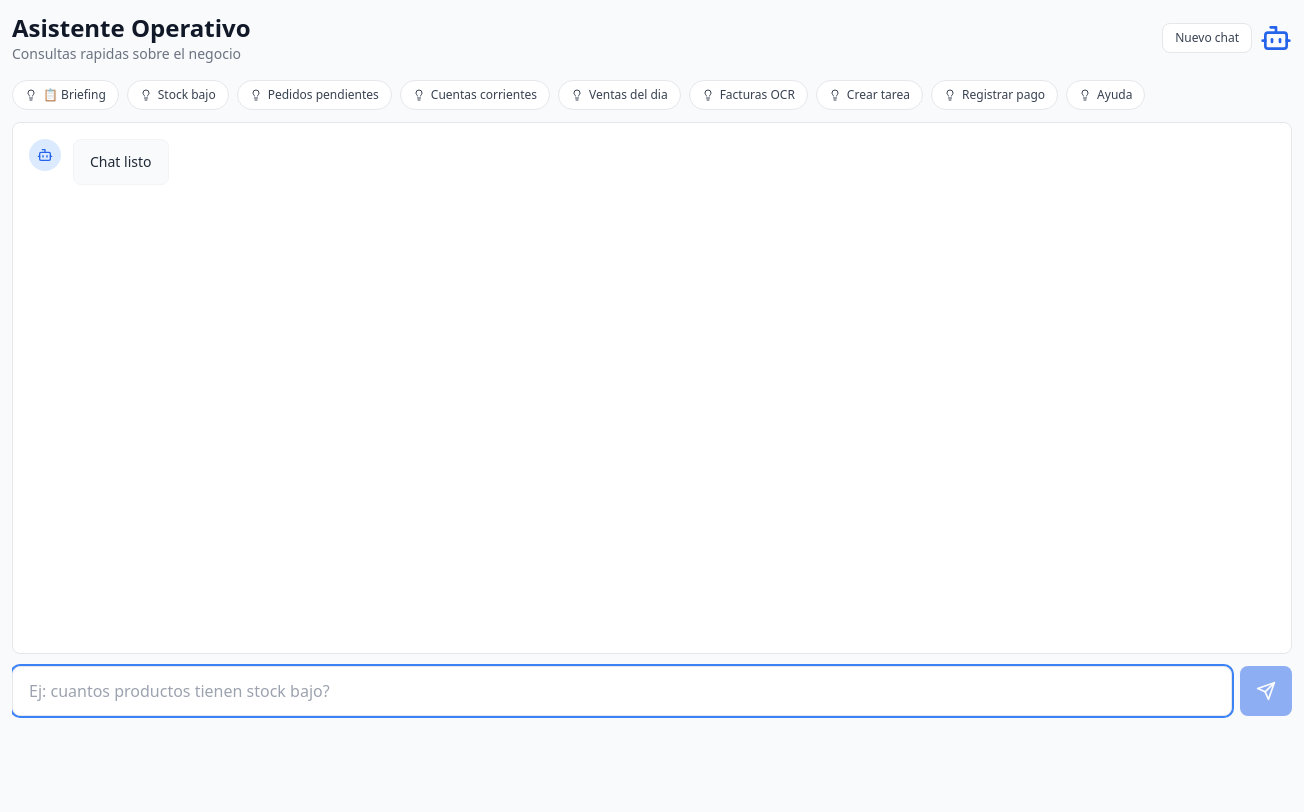
Scenario: Asistente › executes confirm and shows success result
The width and height of the screenshot is (1304, 812).
Type "crear tarea test" into the field with placeholder "Ej: cuantos productos tienen stock bajo?" at [622, 691], box left=12, top=666, right=1232, bottom=716
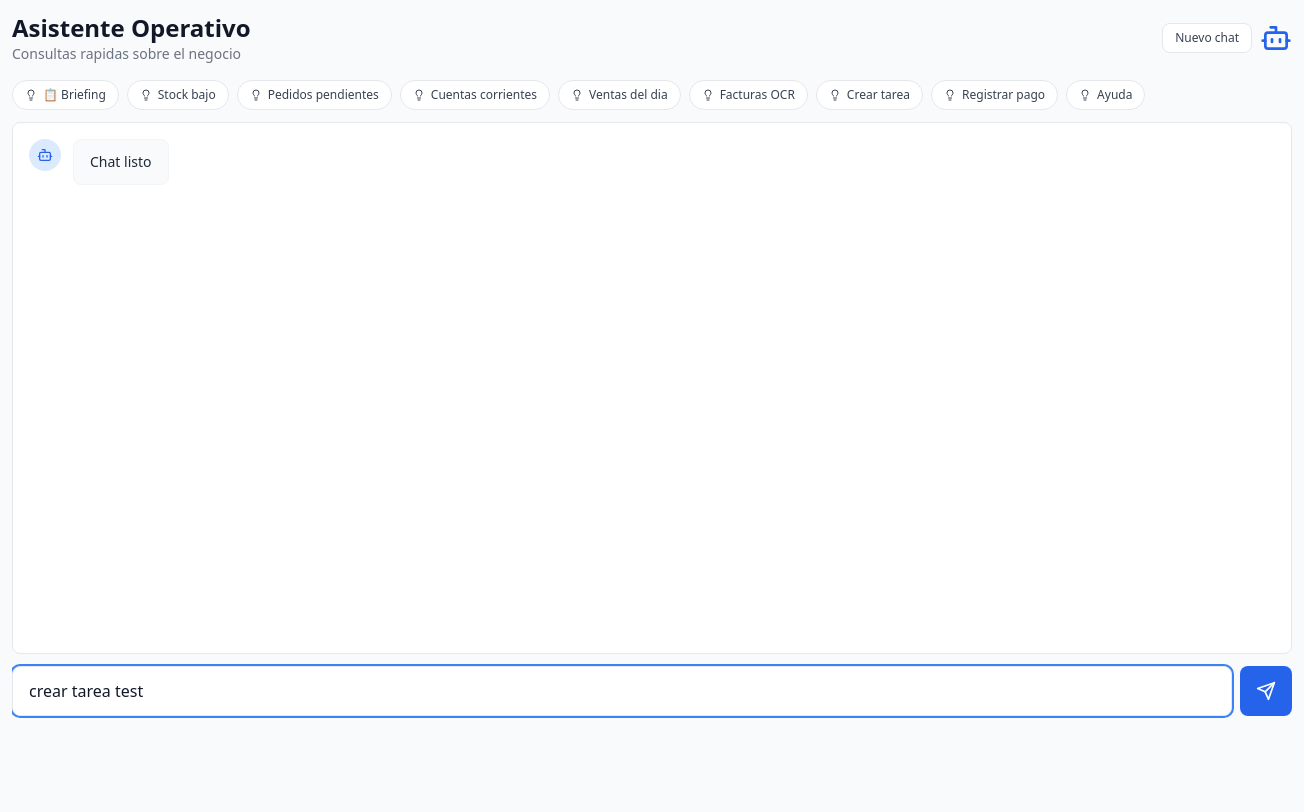
Click the button titled "Enviar" at [1266, 691], box left=1240, top=666, right=1292, bottom=716
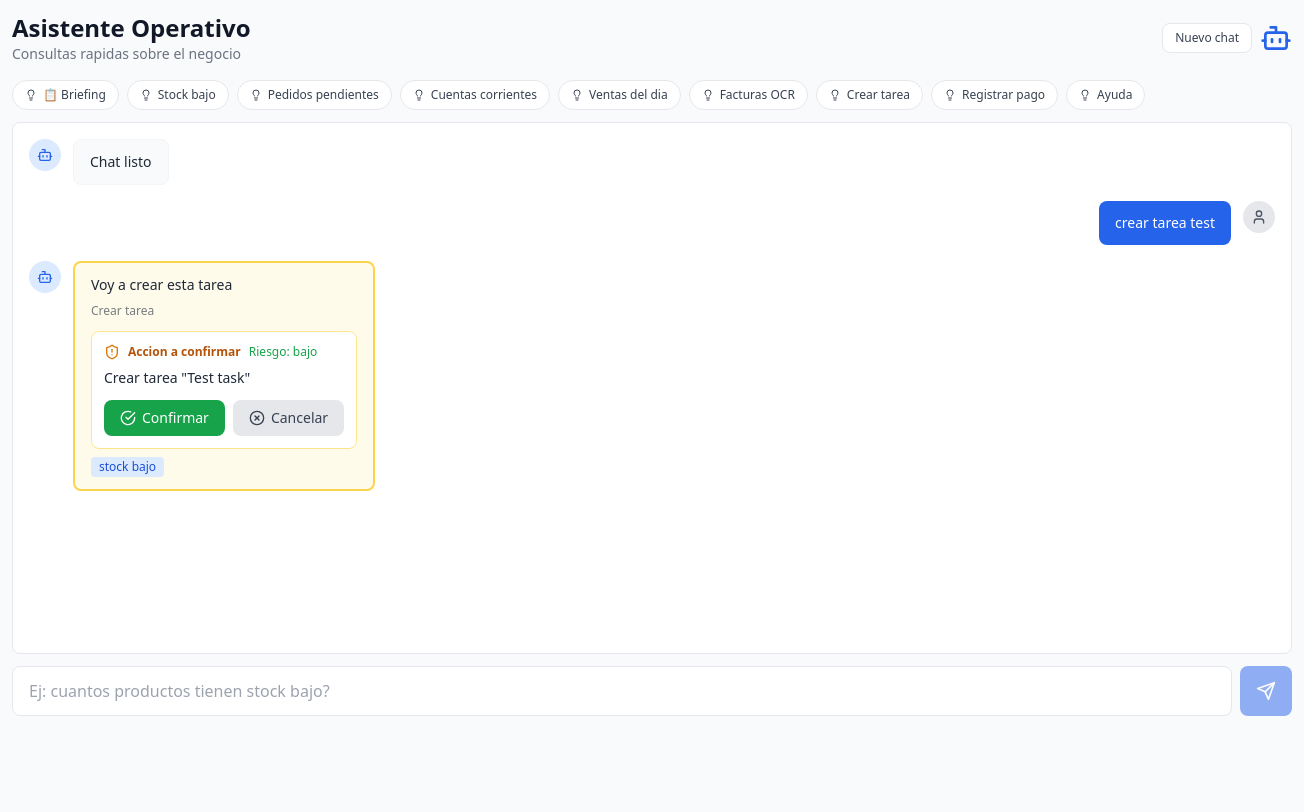
Click the button "Confirmar" at [164, 418], box left=104, top=400, right=225, bottom=436
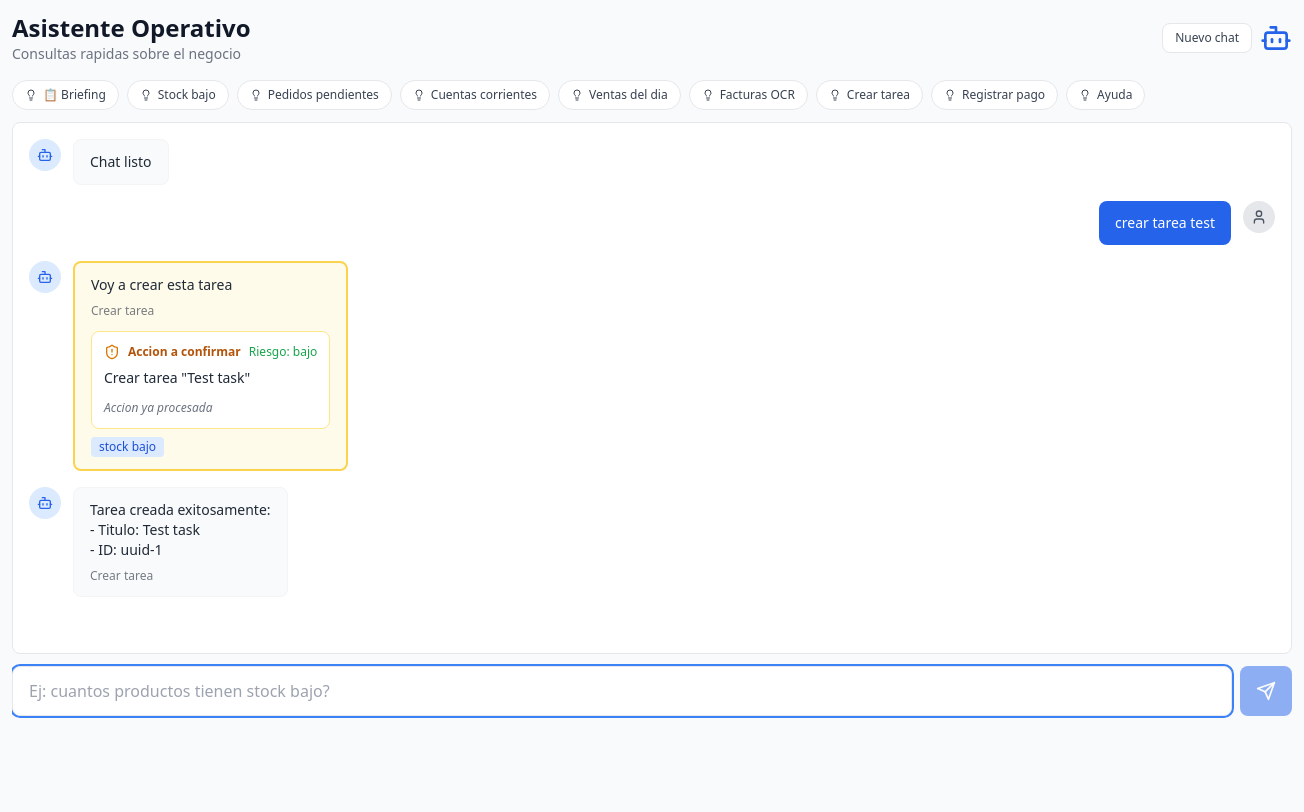
Result: the text "Tarea creada exitosamente: - Titulo: Test task - ID: uuid-1" is shown at left=90, top=500, right=270, bottom=560
